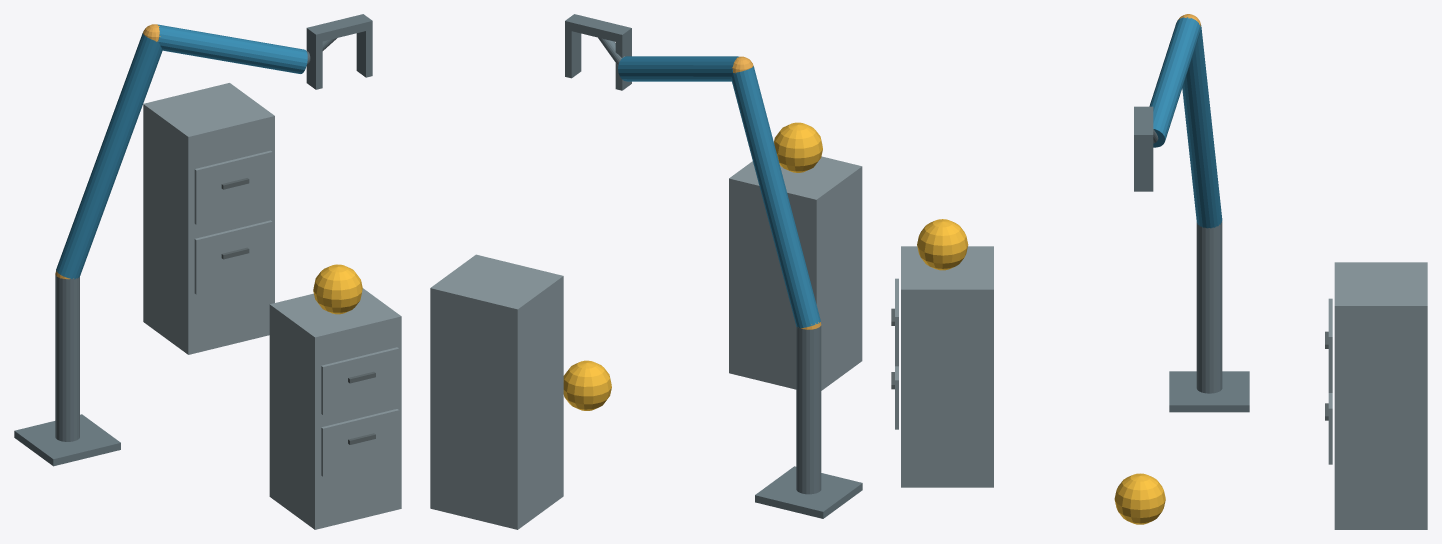
3 renders of one model, left to right at view 1: azimuth 30°, elevation 25°; view 2: azimuth 150°, elevation 25°; view 3: azimuth 270°, elevation 25°, orthographic. The views are drawn at different scales.
Parts seen in each view (by area): view 1: cabinet_2 body, cabinet_1 body, moving link 1, cabinet_2 drawer front, cabinet_2 drawer front.001, fixed post, cabinet_1 drawer front.001, cabinet_1 drawer front, moving link 2, pedestal, released ball_1, gripper bridge (+2 smaller); view 2: cabinet_2 body, cabinet_1 body, moving link 1, fixed post, moving link 2, pedestal, ball ball_2, released ball_1, gripper bridge, gripper finger 1; view 3: cabinet_2 body, cabinet_1 body, fixed post, moving link 1, moving link 2, pedestal, ball ball_2, released ball_1, gripper finger 1, gripper bridge.
Part boxes in pixels (bbox=[...]): cabinet_2 body: bbox=[143, 83, 274, 354]; cabinet_1 body: bbox=[269, 288, 401, 529]; moving link 1: bbox=[56, 33, 162, 279]; cabinet_2 drawer front: bbox=[194, 220, 272, 294]; cabinet_2 drawer front.001: bbox=[194, 150, 272, 224]; fixed post: bbox=[55, 273, 79, 441]; cabinet_1 drawer front.001: bbox=[321, 347, 399, 415]; cabinet_1 drawer front: bbox=[321, 409, 399, 476]; moving link 2: bbox=[157, 24, 307, 73]; pedestal: bbox=[14, 414, 120, 466]; released ball_1: bbox=[313, 264, 362, 314]; gripper bridge: bbox=[306, 14, 372, 42]; cabinet_2 body: bbox=[430, 254, 563, 529]; cabinet_1 body: bbox=[729, 156, 862, 390]; moving link 1: bbox=[731, 66, 820, 328]; fixed post: bbox=[796, 323, 821, 494]; moving link 2: bbox=[618, 56, 738, 81]; pedestal: bbox=[755, 466, 862, 518]; ball ball_2: bbox=[563, 360, 611, 410]; released ball_1: bbox=[774, 122, 822, 172]; gripper bridge: bbox=[565, 14, 631, 43]; gripper finger 1: bbox=[565, 29, 581, 78]; cabinet_2 body: bbox=[1334, 262, 1427, 529]; cabinet_1 body: bbox=[901, 246, 993, 487]; fixed post: bbox=[1196, 221, 1222, 393]; moving link 1: bbox=[1182, 25, 1222, 228]; moving link 2: bbox=[1149, 17, 1200, 147]; pedestal: bbox=[1169, 371, 1249, 412]; ball ball_2: bbox=[1114, 473, 1165, 524]; released ball_1: bbox=[917, 219, 968, 270]; gripper finger 1: bbox=[1134, 143, 1153, 191]; gripper bridge: bbox=[1134, 106, 1153, 143].
Size of the model in its own units: 1.14 by 1.44 by 1.67.
